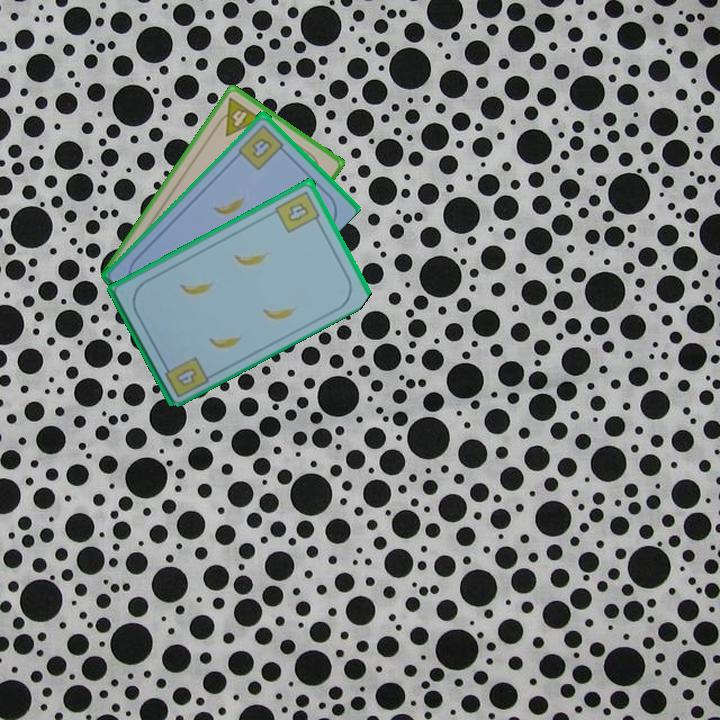4b: (235, 120, 289, 173), (272, 187, 324, 235), (159, 353, 211, 400)
4p: (211, 94, 265, 139)
